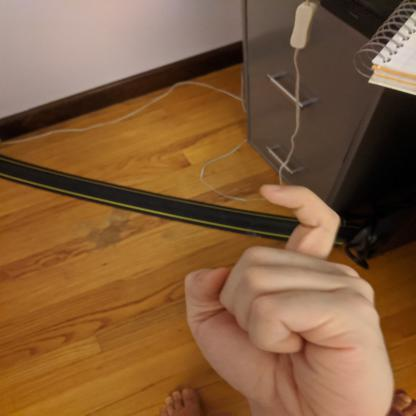X: (176, 179, 400, 416)
